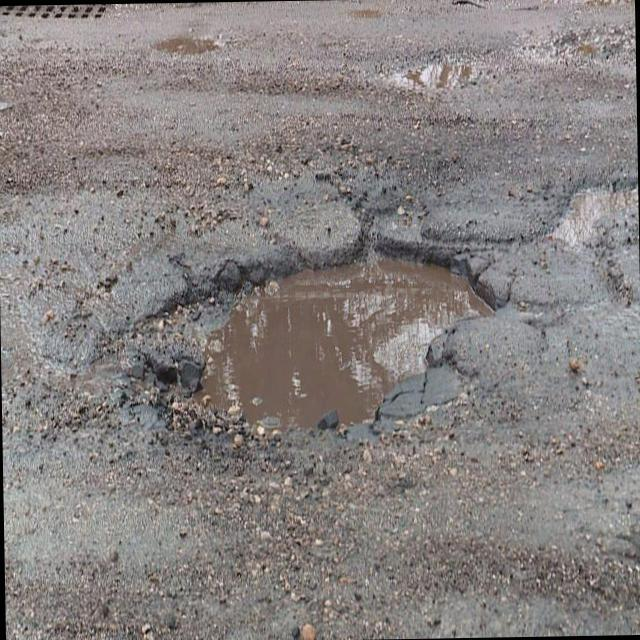Pothole: (131, 234, 491, 467)
